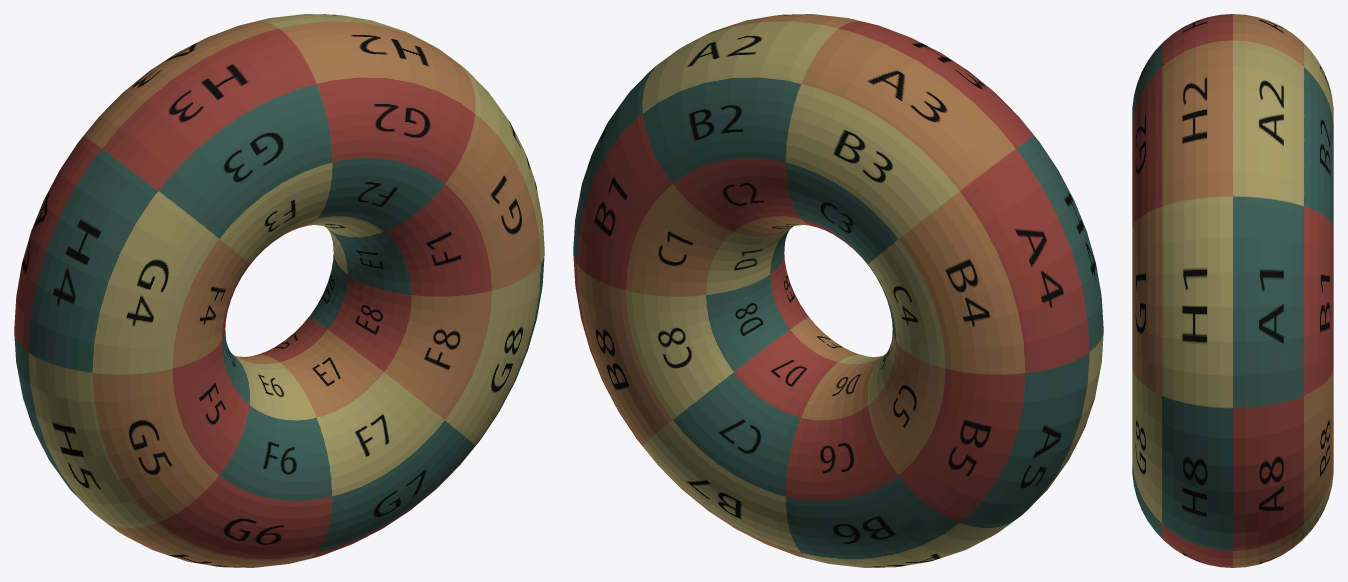
Rendered from texture_torus_R7_r24.glb.
The picture shows the model from 3 angles, left to right: view 1: azimuth 30°, elevation 25°; view 2: azimuth 150°, elevation 25°; view 3: azimuth 270°, elevation 25°; orthographic projection. The views are drawn at different scales.
Visible parts, largest first — view 1: world; view 2: world; view 3: world.
Part boxes in pixels (x1=…): world: x1=14, y1=14, x2=544, y2=567; world: x1=573, y1=14, x2=1103, y2=567; world: x1=1132, y1=14, x2=1333, y2=567.
Bounding box in the file's own units: 23.07 × 23.02 × 8.38.
1 material, 1 textured.
